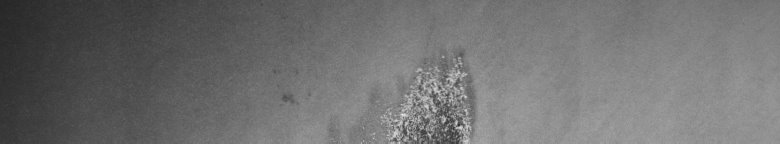hc: (370, 50, 480, 136)
